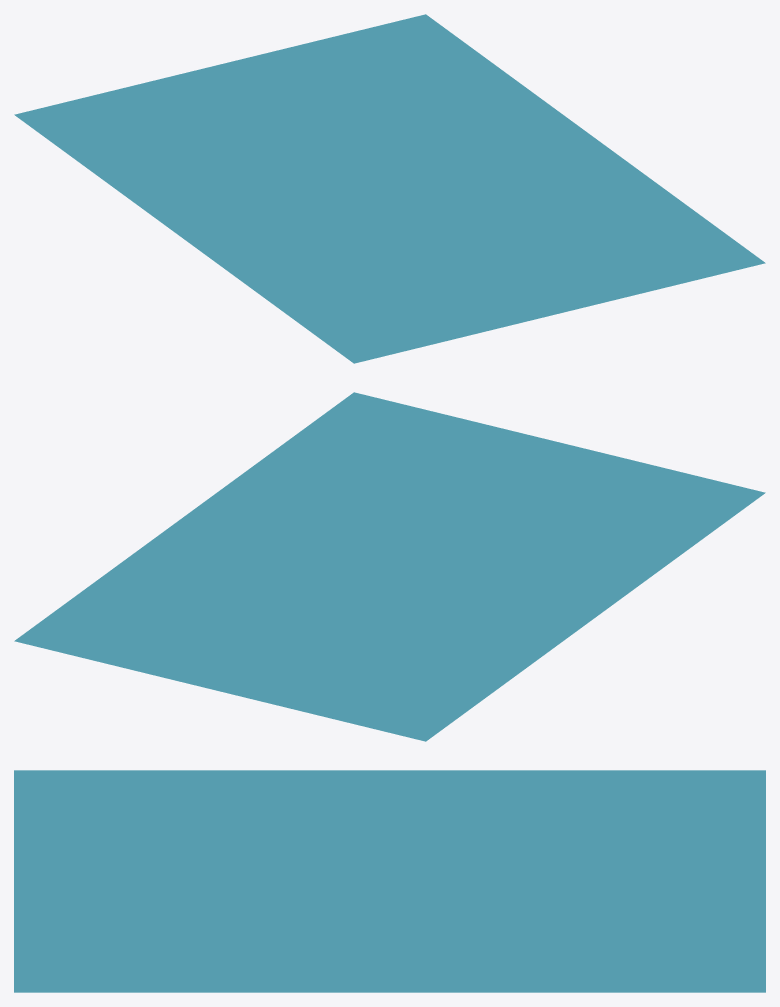
File: water.glb
3 views of the same model, one above another, from view 1: azimuth 30°, elevation 25°; view 2: azimuth 150°, elevation 25°; view 3: azimuth 270°, elevation 25° (orthographic). The views are drawn at different scales.
Parts seen in each view (by area): view 1: water; view 2: water; view 3: water.
Boxes of the visible parts, left/top/right/bottom form: water: left=14, top=14, right=765, bottom=363; water: left=14, top=392, right=765, bottom=741; water: left=14, top=770, right=765, bottom=992.
Bounding box in the file's own units: 4951 × 0.4 × 7080.
